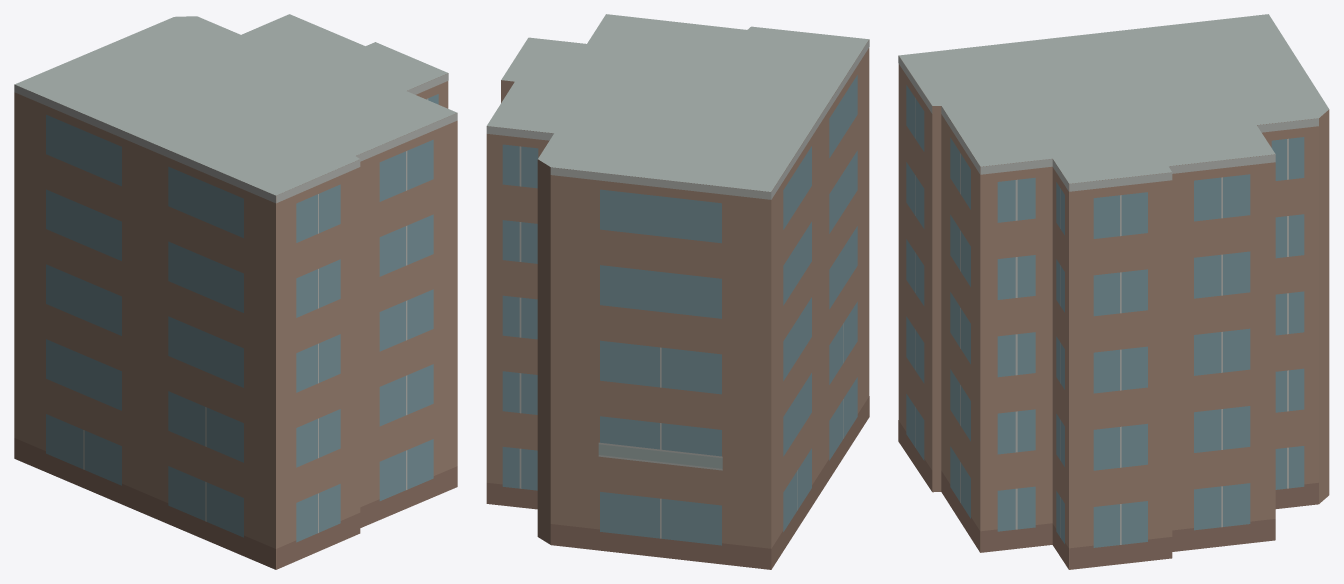
The model's file is survey-upis-32652807.glb.
The picture shows the model from 3 angles, left to right: view 1: azimuth 30°, elevation 25°; view 2: azimuth 150°, elevation 25°; view 3: azimuth 270°, elevation 25°; orthographic projection. The views are drawn at different scales.
Parts seen in each view (by area): view 1: survey-upis-32652807.tmp; view 2: survey-upis-32652807.tmp; view 3: survey-upis-32652807.tmp.
Boxes of the visible parts, x1,y1,x2,y2 form: survey-upis-32652807.tmp: (14,14,457,569); survey-upis-32652807.tmp: (486,14,869,569); survey-upis-32652807.tmp: (898,14,1329,569).
Bounding box in the file's own units: 11.09 × 11.75 × 11.89.
